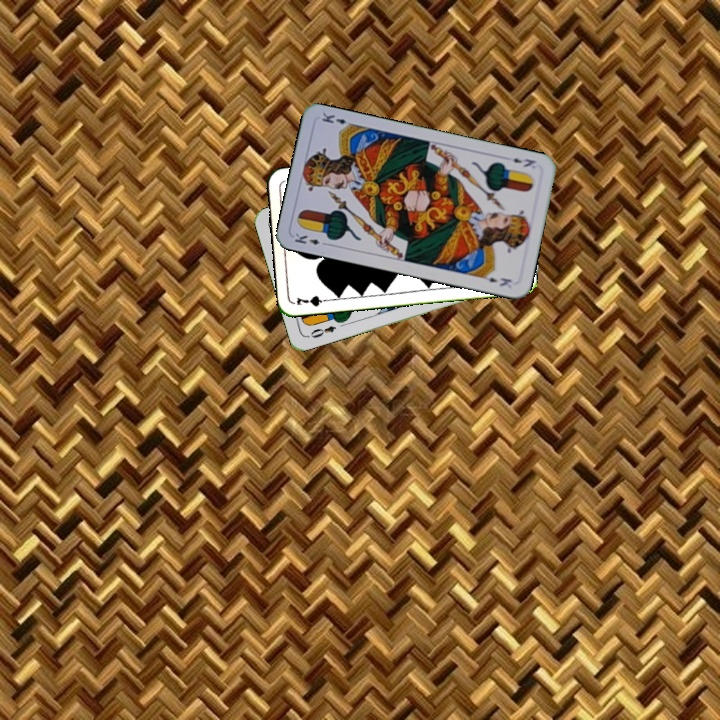EK: (291, 229, 331, 248), (509, 154, 538, 170)
EO: (306, 322, 339, 340)
G7: (292, 291, 333, 309)
